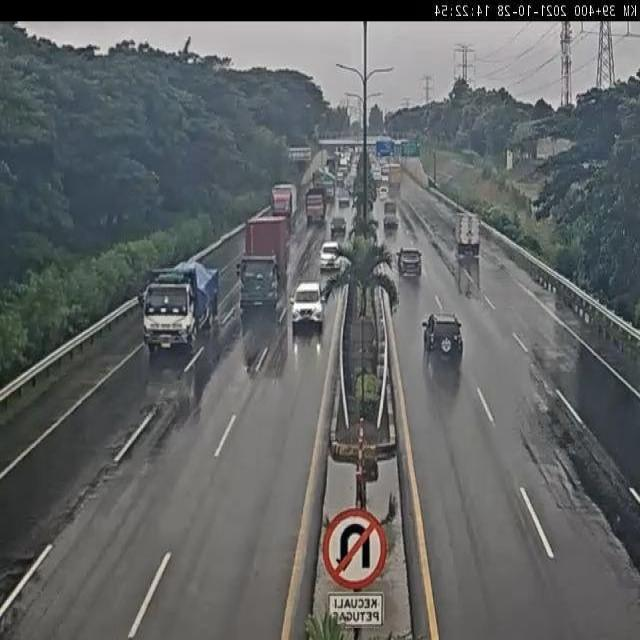Bus: (381, 163, 389, 176)
Car: (422, 312, 464, 363), (290, 281, 324, 331), (396, 246, 422, 278), (319, 241, 342, 271), (330, 215, 347, 238), (336, 187, 349, 207), (346, 175, 356, 196), (326, 182, 336, 201), (337, 167, 347, 186), (370, 168, 380, 186)
Truck: (140, 262, 219, 354), (244, 214, 292, 309), (270, 184, 296, 227), (456, 212, 480, 258), (304, 186, 328, 226), (388, 166, 402, 195)
Van: (378, 185, 388, 200)
